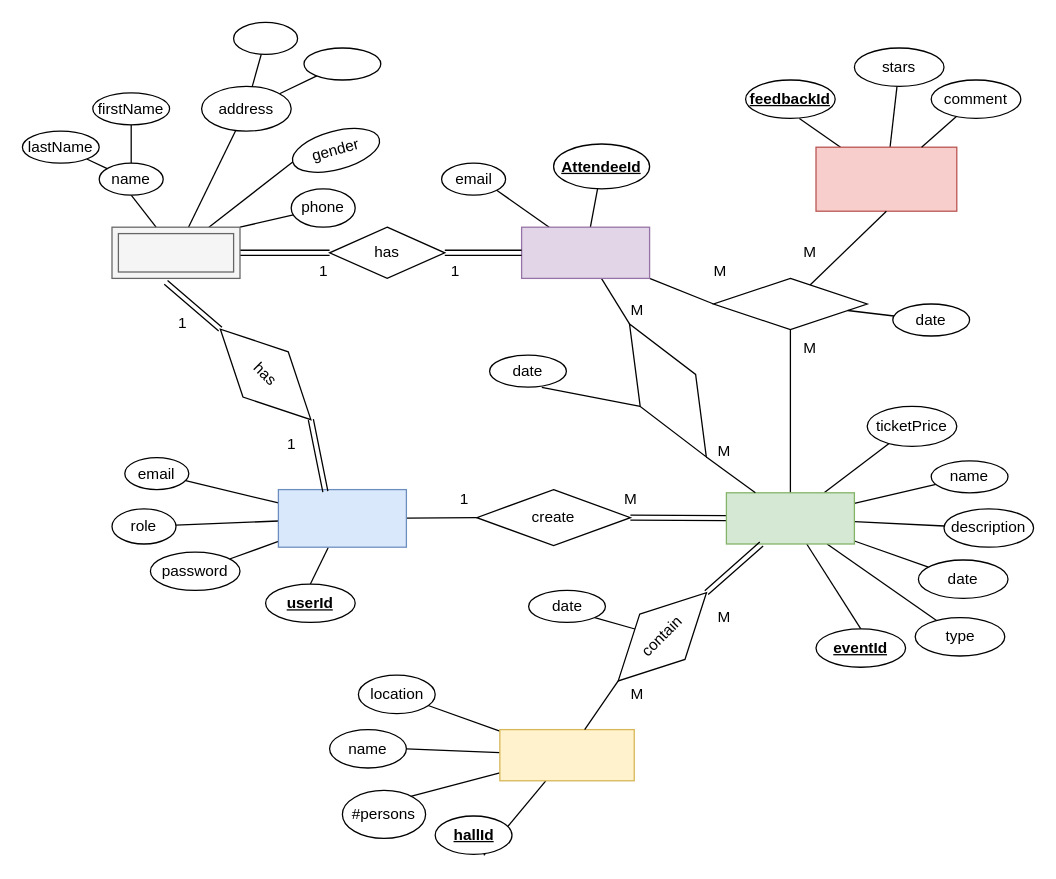
The diagram is 1056 pixels wide and 879 high, and some of its shapes have lost their labels. The shapes that lost their labels are listed below. From the top down, each one's centre as x and y in pixels, then its label:
(265,37): City
(342,63): Country
(886,178): UserFeedback
(175,252): contact
(585,252): Attendee
(789,303): give
(667,389): attend
(341,517): Users
(789,518): Event
(566,754): Hall
